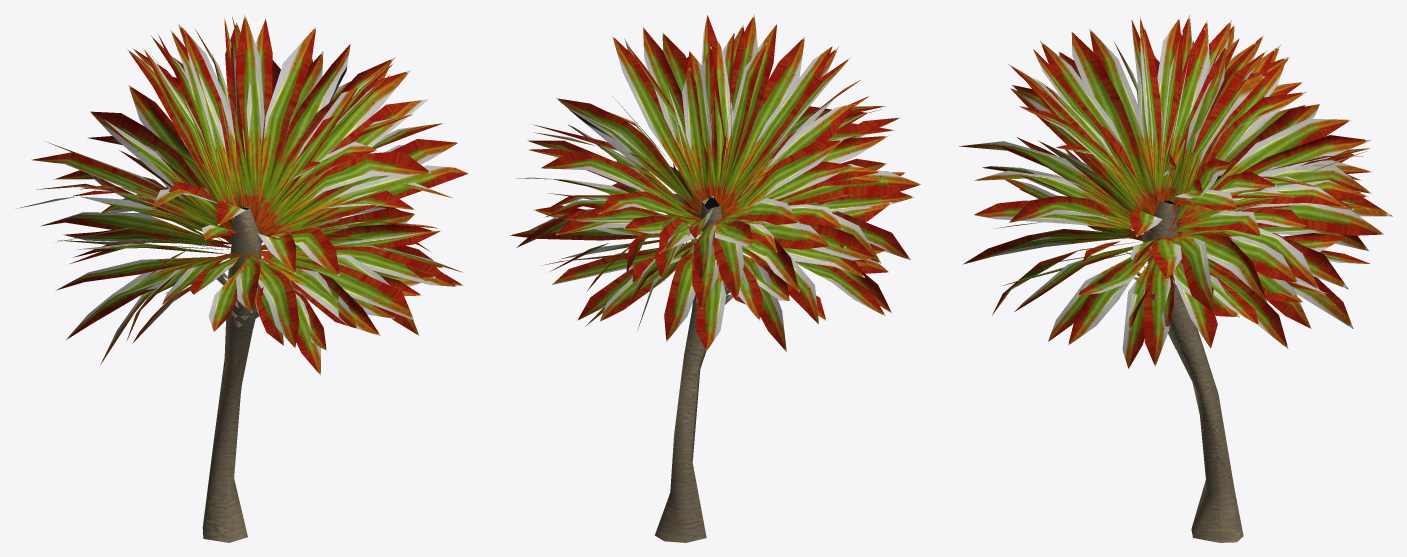
File: SM_pal_b00_palm_tree_a_d96425.glb
3 views of the same model, side by side, from view 1: azimuth 30°, elevation 25°; view 2: azimuth 150°, elevation 25°; view 3: azimuth 270°, elevation 25° (orthographic). The views are drawn at different scales.
Size of the model in its own units: 1.52 by 1.91 by 1.53.
Materials: 3 (3 with a texture image).
